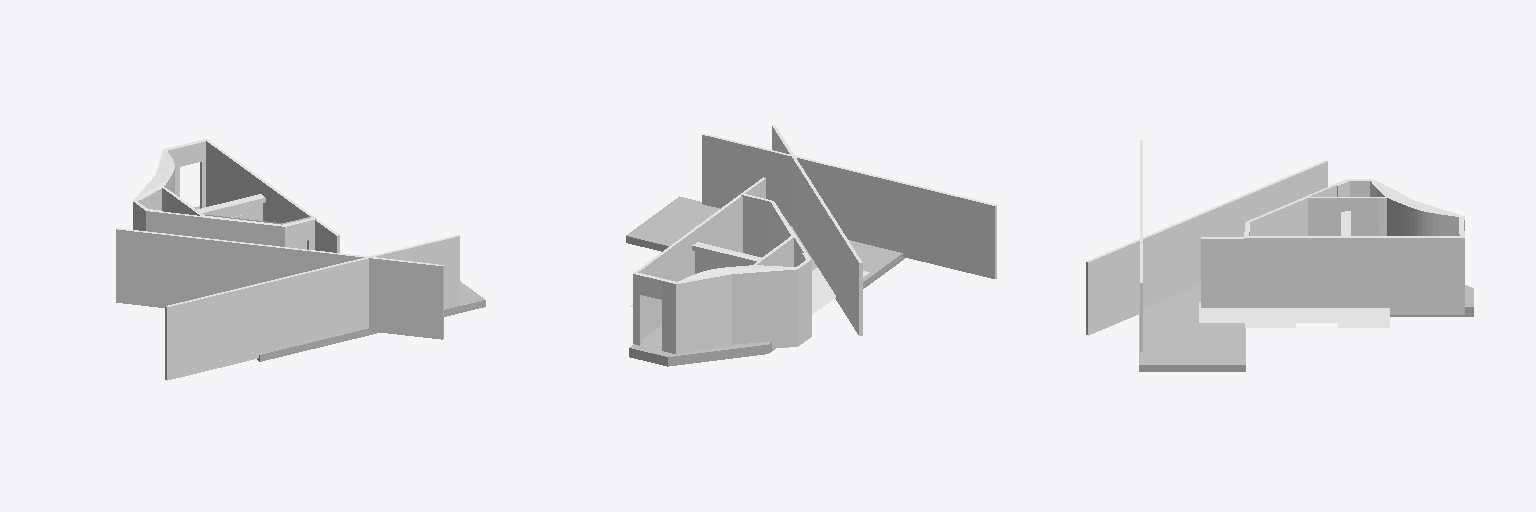
Rendered from All.obj.
3 views of the same model, side by side, from view 1: azimuth 30°, elevation 25°; view 2: azimuth 150°, elevation 25°; view 3: azimuth 270°, elevation 25° (orthographic).
Parts seen in each view (by area): view 1: Hallway Wall (3), Hallway Wall (2), Line006 (2), Hallway Floor, Plane 2, Hallway Wall (1), Cube; view 2: Hallway Wall (3), Line006 (2), Hallway Wall (2), Hallway Floor, Floor With Pit (1), Plane 2, Plane 3, Plane (3), Cube, Plane 4; view 3: Line006 (2), Hallway Wall (2), Hallway Floor, Hallway Wall (1), Plane 4, Plane (2), Plane 1, Plane, Plane (1), Hallway Wall (3).
Boxes of the visible parts, x1,y1,x2,y2 form: Hallway Wall (3): [165, 235, 459, 380]; Hallway Wall (2): [116, 228, 443, 339]; Line006 (2): [133, 139, 316, 249]; Hallway Floor: [257, 281, 485, 361]; Plane 2: [262, 182, 309, 222]; Hallway Wall (1): [315, 219, 339, 252]; Cube: [197, 194, 265, 214]; Hallway Wall (3): [702, 134, 996, 278]; Line006 (2): [633, 193, 811, 354]; Hallway Wall (2): [772, 124, 862, 335]; Hallway Floor: [626, 196, 904, 288]; Floor With Pit (1): [629, 326, 774, 366]; Plane 2: [694, 196, 742, 274]; Plane 3: [741, 195, 770, 257]; Plane (3): [812, 268, 869, 314]; Cube: [692, 242, 760, 264]; Plane 4: [770, 203, 790, 250]; Line006 (2): [1244, 179, 1464, 314]; Hallway Wall (2): [1086, 160, 1327, 335]; Hallway Floor: [1139, 285, 1245, 371]; Hallway Wall (1): [1201, 237, 1243, 307]; Plane 4: [1251, 198, 1307, 235]; Plane (2): [1199, 302, 1345, 322]; Plane 1: [1308, 200, 1344, 235]; Plane: [1245, 308, 1295, 327]; Plane (1): [1338, 308, 1389, 327]; Hallway Wall (3): [1140, 140, 1142, 351].
Size of the model in its own units: 19.66 by 4.77 by 20.77.